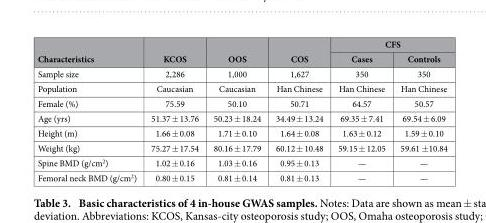table: (36, 37, 446, 183)
table column: (36, 37, 143, 183), (329, 37, 392, 183), (143, 37, 205, 183), (205, 37, 267, 183), (267, 37, 329, 183), (392, 37, 446, 183)
table column header: (36, 37, 446, 65)
table row: (36, 50, 446, 65), (36, 65, 446, 80), (36, 80, 446, 95), (36, 95, 446, 110), (36, 110, 446, 125), (36, 125, 446, 140), (36, 140, 446, 155), (36, 155, 446, 169), (36, 169, 446, 183), (36, 37, 446, 50)
table spanning cell: (36, 37, 143, 65), (143, 37, 205, 65), (205, 37, 267, 65), (267, 37, 329, 65), (329, 37, 446, 50)
